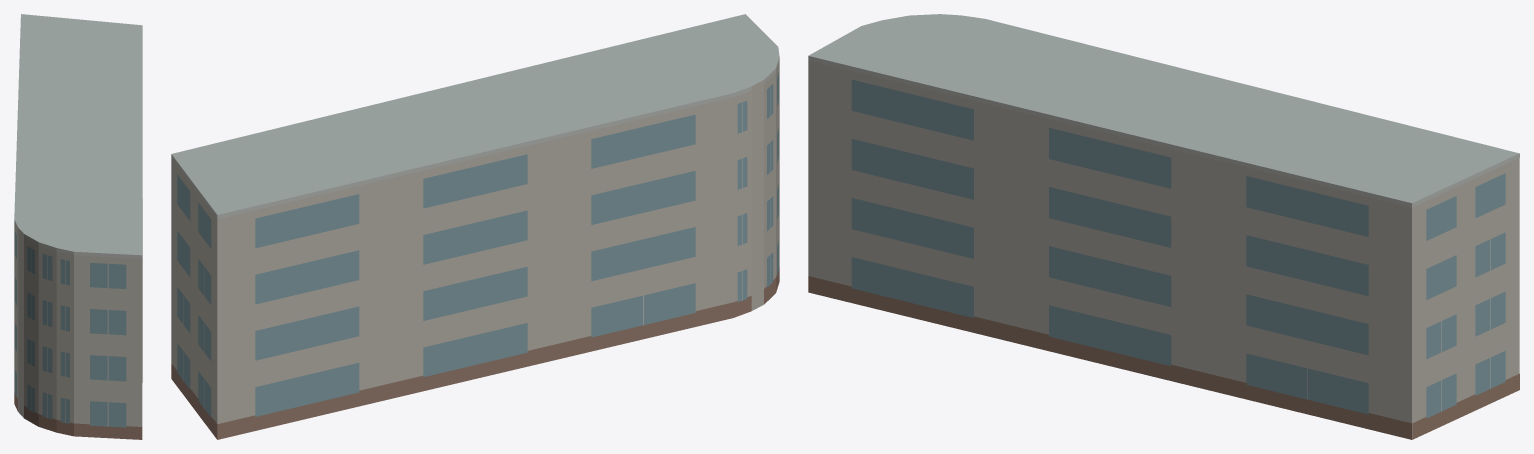
File: survey-upis-32544146.glb
3 views of the same model, side by side, from view 1: azimuth 30°, elevation 25°; view 2: azimuth 150°, elevation 25°; view 3: azimuth 270°, elevation 25° (orthographic). The views are drawn at different scales.
Visible parts, largest first — view 1: survey-upis-32544146.tmp; view 2: survey-upis-32544146.tmp; view 3: survey-upis-32544146.tmp.
Boxes of the visible parts, x1,y1,x2,y2 form: survey-upis-32544146.tmp: [14, 14, 142, 439]; survey-upis-32544146.tmp: [171, 14, 779, 439]; survey-upis-32544146.tmp: [808, 14, 1519, 439].
Bounding box in the file's own units: 22.36 × 13.03 × 35.52.
